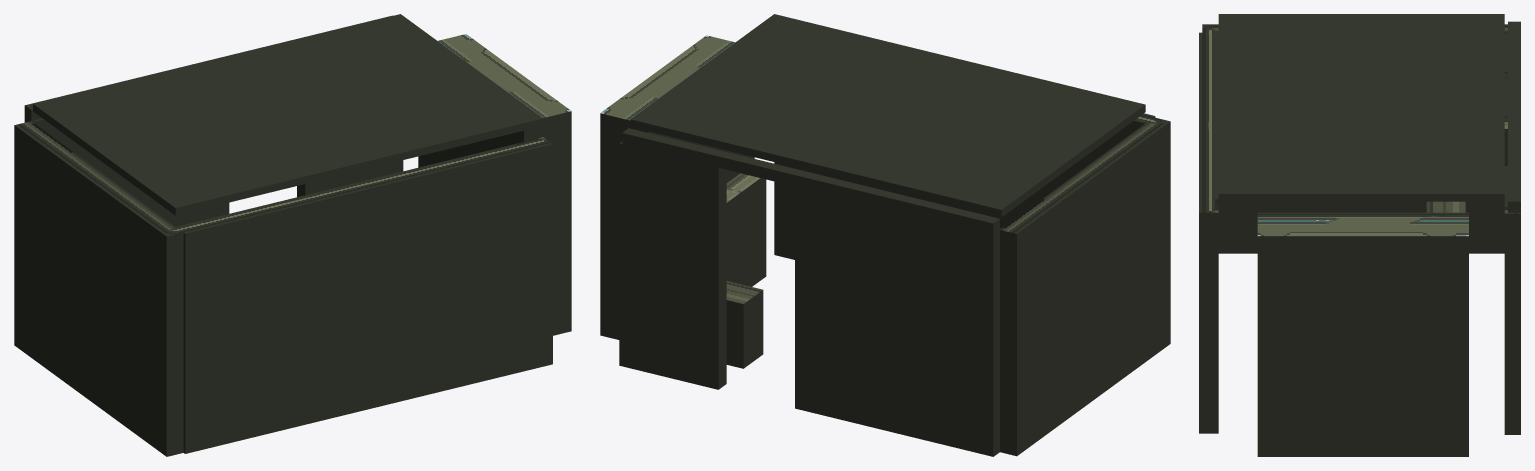
Rendered from CMU3DInteriorVehicleSPPVanChassisLogistics.glb.
The picture shows the model from 3 angles, left to right: view 1: azimuth 30°, elevation 25°; view 2: azimuth 150°, elevation 25°; view 3: azimuth 270°, elevation 25°; orthographic projection.
Visible parts, largest first — view 1: van hull panel (×5), cabin roof, van hull panel source finish (×3), upper frame; view 2: van hull panel (×5), cabin roof, upper frame, van hull panel source finish (×2), driver console, window sill; view 3: van hull panel (×4), cabin roof, van hull panel source finish (×3), upper frame, window sill source finish.
Boxes of the visible parts, x1=… form: van hull panel (×5): x1=14, y1=111, x2=571, y2=456; cabin roof: x1=33, y1=14, x2=543, y2=215; van hull panel source finish (×3): x1=14, y1=34, x2=571, y2=236; upper frame: x1=24, y1=15, x2=392, y2=120; van hull panel (×5): x1=600, y1=113, x2=1170, y2=456; cabin roof: x1=630, y1=14, x2=1145, y2=217; upper frame: x1=622, y1=128, x2=999, y2=234; van hull panel source finish (×2): x1=600, y1=35, x2=1170, y2=234; driver console: x1=726, y1=178, x2=766, y2=286; window sill: x1=726, y1=290, x2=763, y2=368; van hull panel (×4): x1=1199, y1=31, x2=1520, y2=456; cabin roof: x1=1218, y1=14, x2=1504, y2=201; van hull panel source finish (×3): x1=1199, y1=32, x2=1507, y2=236; upper frame: x1=1508, y1=21, x2=1520, y2=212; window sill source finish: x1=1426, y1=201, x2=1465, y2=212.
Size of the model in its own units: 4.81 by 2.54 by 3.09.
9 materials, 8 textured.
